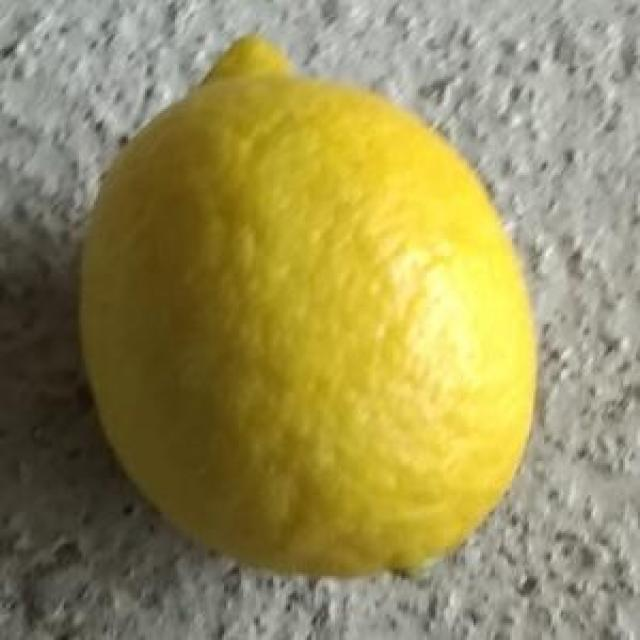lemon: (78, 32, 544, 576)
